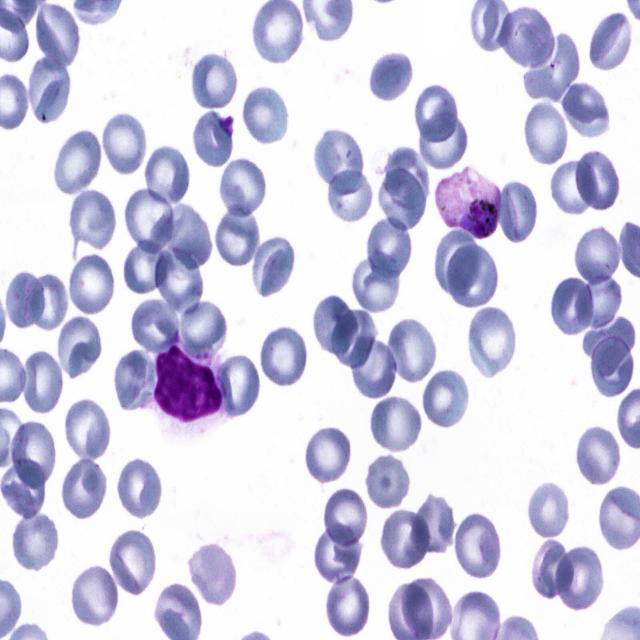difficult: (435, 171, 503, 239)
leukocyte: (156, 343, 222, 422)
red blood cell: (522, 29, 580, 102), (494, 3, 555, 69), (311, 125, 365, 197), (162, 200, 214, 272), (153, 245, 205, 317), (468, 304, 515, 382), (186, 538, 238, 608), (123, 186, 176, 254), (434, 226, 483, 298), (445, 241, 498, 307), (108, 527, 158, 596), (258, 323, 309, 390), (70, 563, 121, 629), (582, 313, 635, 376), (51, 130, 101, 196), (381, 144, 431, 210), (311, 291, 361, 357), (555, 546, 605, 612), (62, 398, 113, 462), (388, 317, 437, 383), (116, 453, 164, 520), (11, 422, 56, 493), (455, 509, 500, 580), (368, 395, 422, 454), (313, 522, 362, 587), (56, 313, 102, 382), (216, 156, 267, 218), (348, 335, 398, 398), (380, 508, 430, 571), (401, 576, 451, 639), (188, 49, 237, 113), (68, 187, 116, 252), (574, 424, 622, 489), (560, 80, 612, 140), (548, 273, 595, 339), (60, 457, 108, 521), (410, 491, 458, 555), (417, 111, 469, 170), (19, 348, 64, 416), (215, 200, 260, 268), (379, 166, 426, 231), (413, 80, 461, 143), (574, 224, 622, 287), (112, 349, 158, 414), (422, 367, 468, 432), (352, 251, 400, 313), (68, 252, 115, 315), (574, 271, 624, 330), (250, 234, 296, 298), (366, 215, 412, 279), (524, 100, 569, 165), (589, 333, 634, 398), (588, 9, 634, 72), (528, 537, 574, 600), (329, 309, 378, 368), (1, 459, 46, 523), (12, 512, 58, 574), (130, 296, 180, 353), (366, 48, 415, 106), (35, 2, 80, 65), (325, 574, 370, 637), (575, 148, 620, 211), (121, 238, 169, 297), (363, 452, 411, 511), (304, 424, 351, 484), (28, 55, 70, 122), (100, 112, 146, 173), (324, 487, 368, 550), (178, 297, 228, 352), (497, 178, 538, 245), (324, 168, 374, 222), (526, 480, 570, 540), (550, 160, 598, 215), (220, 353, 258, 420), (147, 144, 190, 203), (6, 268, 47, 329), (192, 111, 234, 170), (246, 86, 288, 143), (27, 273, 68, 331)
